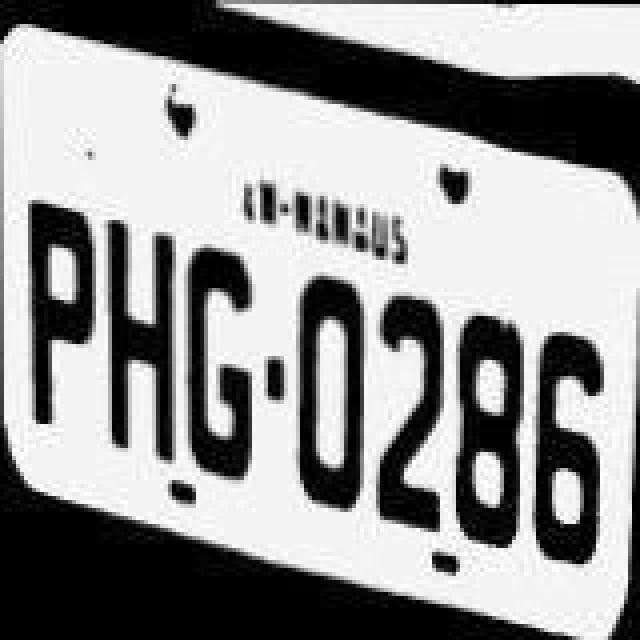2: (374, 286, 446, 534)
6: (524, 332, 608, 564)
8: (452, 310, 528, 558)
G: (186, 242, 258, 482)
H: (98, 222, 178, 458)
O: (292, 276, 368, 512)
P: (18, 208, 98, 432)
